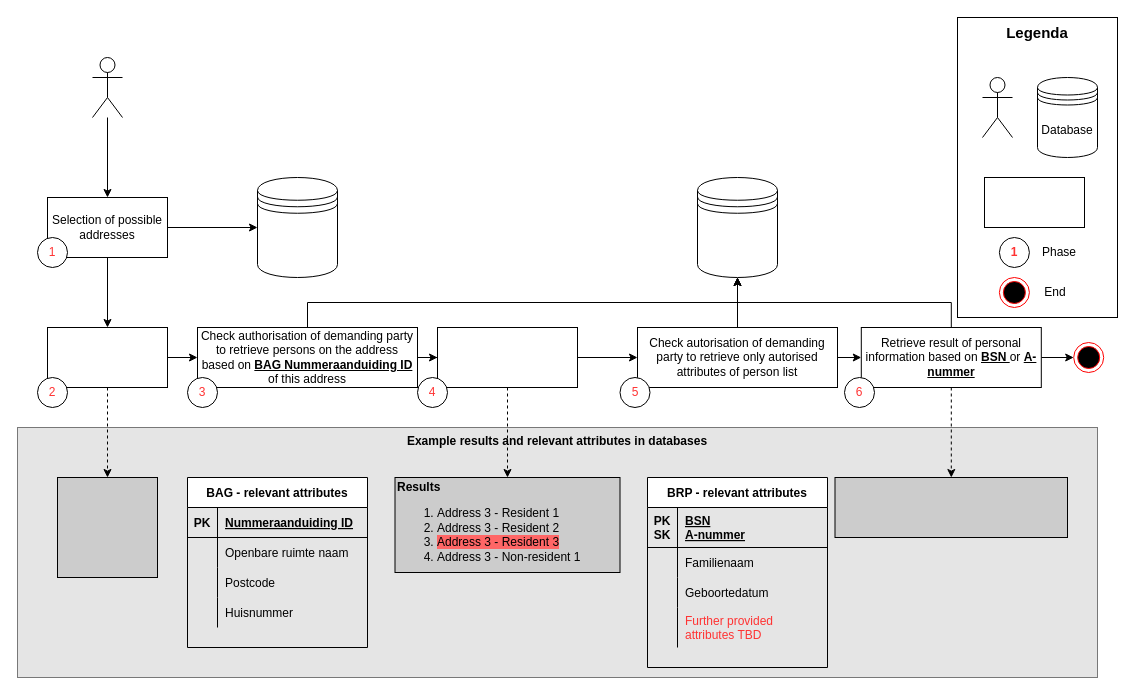
This 1135x695 diagram has some shape labels left out. Each missing label, with the centre of its shape:
"Actor" goes at point 997,107.
"Basis Registratie Personen (BRP)" goes at point 737,227.
"Basis- administratie Gebouwen (BAG)" goes at point 297,227.
"Demanding party" goes at point 107,87.
"Process step" goes at point 1034,202.
"Result Address 1 Address 2 Address 3 Address 4" goes at point 107,527.
"Result and selection of one address" goes at point 107,357.
"Result of available residents on unique adress and selection of single person" goes at point 507,357.
"Result Peronal information Adres 3 - Resident 3" goes at point 951,507.
